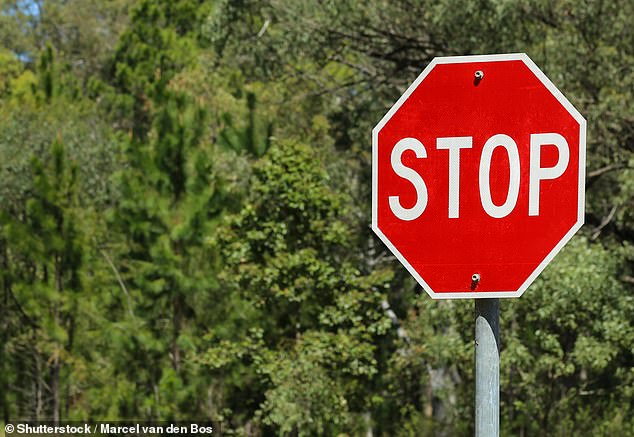stop_sign: (371, 53, 587, 300)
